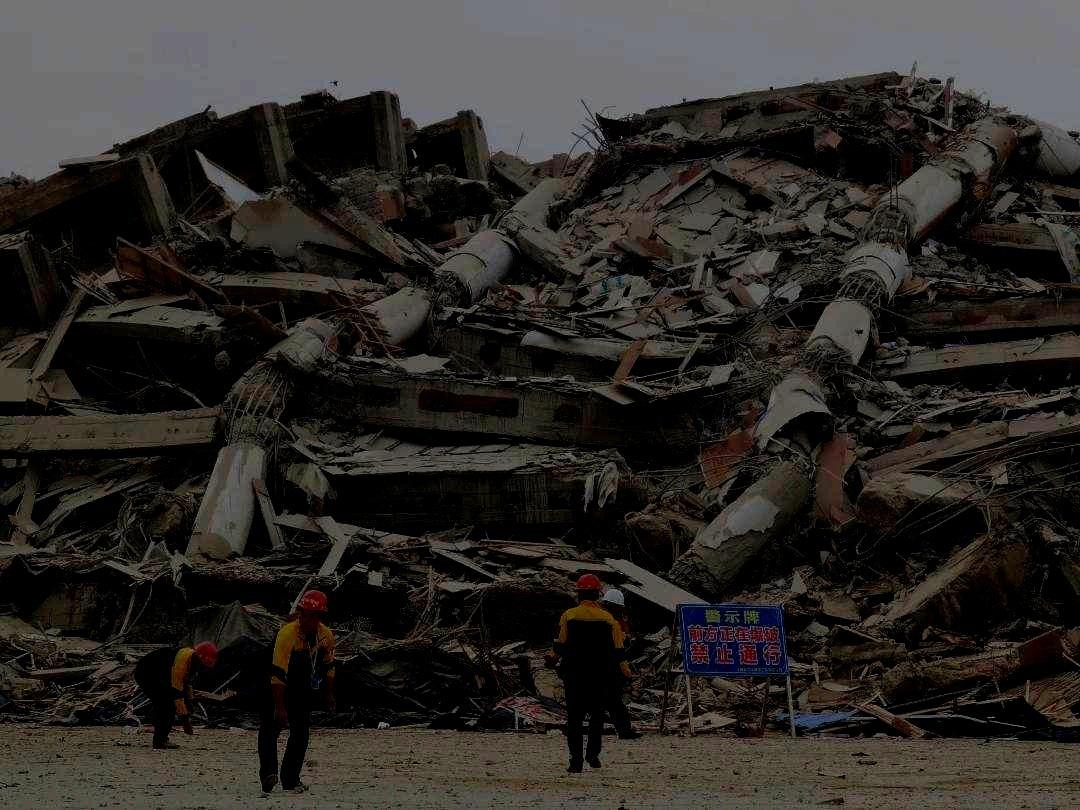helmet: (297, 590, 329, 629), (573, 573, 603, 604), (191, 641, 218, 674), (600, 588, 625, 617)
